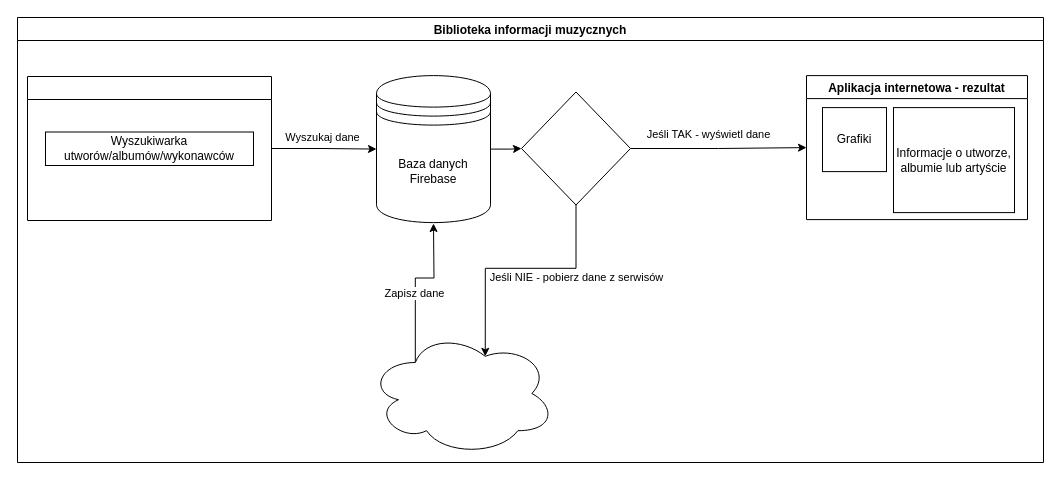
The diagram is 1061 pixels wide and 480 high, and some of its shapes have lost their labels. Here are the shapes that lost their labels. From the top down, the box of each, then its label:
(26, 76, 272, 220): Aplikacja internetowa - okno główne
(520, 91, 630, 205): Czy dane są w bazie?
(368, 330, 555, 456): Zewnętrzne serwisy internetowe
